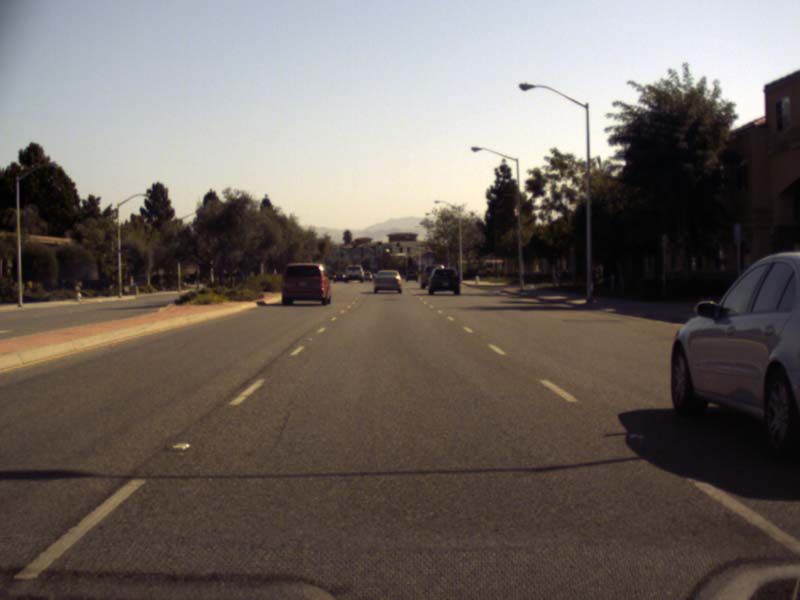Green: (377, 245, 381, 248), (395, 246, 398, 249)
